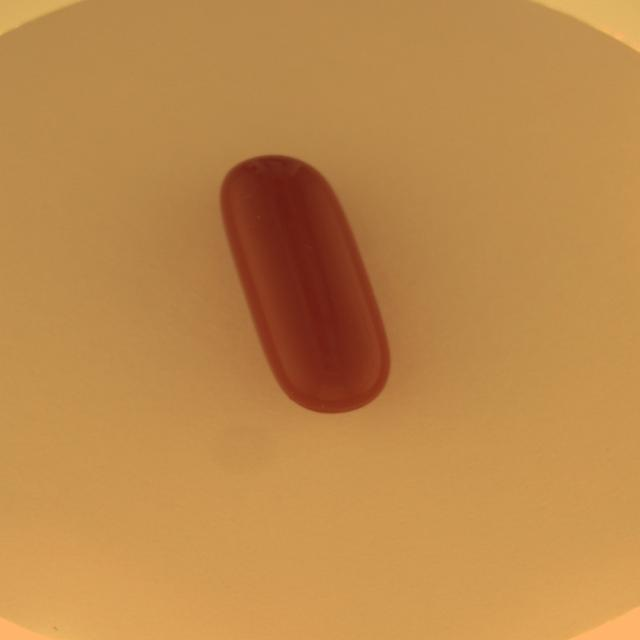Oval: (218, 152, 393, 418)
